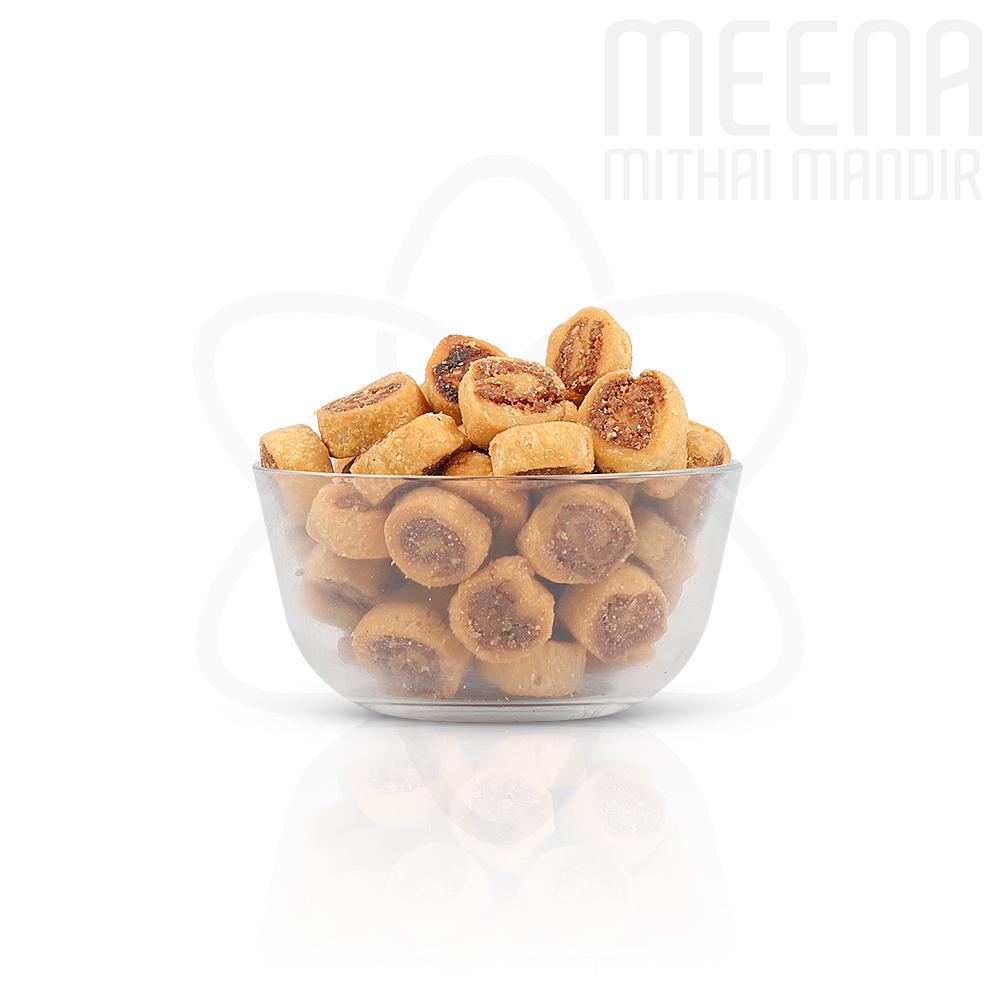bhakarwadi: (254, 330, 743, 705)
